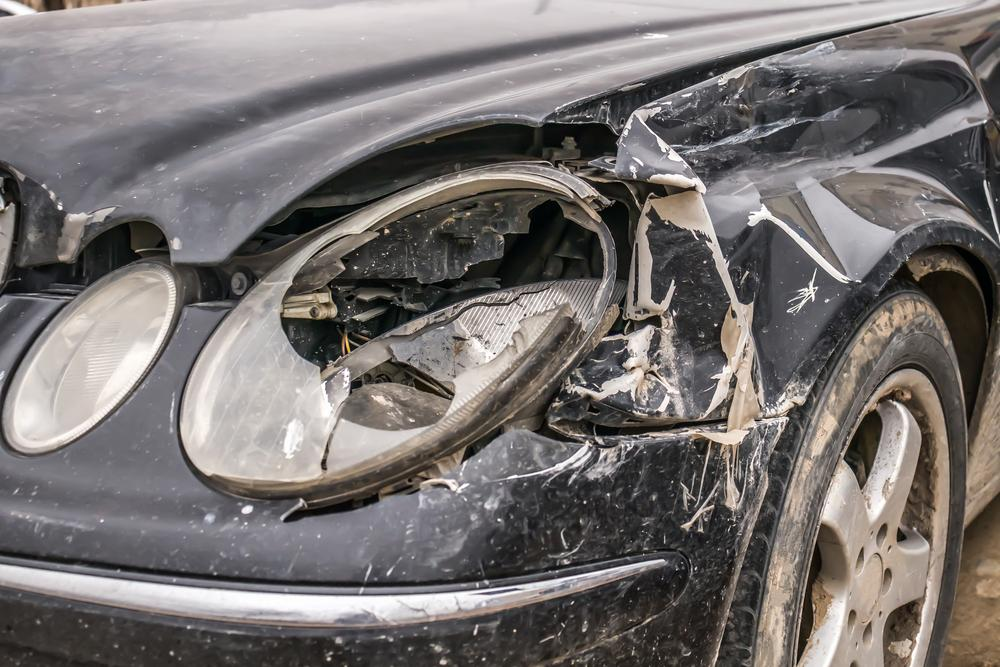dent: (569, 44, 991, 428)
lamp broken: (183, 163, 622, 495)
scratch: (398, 431, 769, 567)
